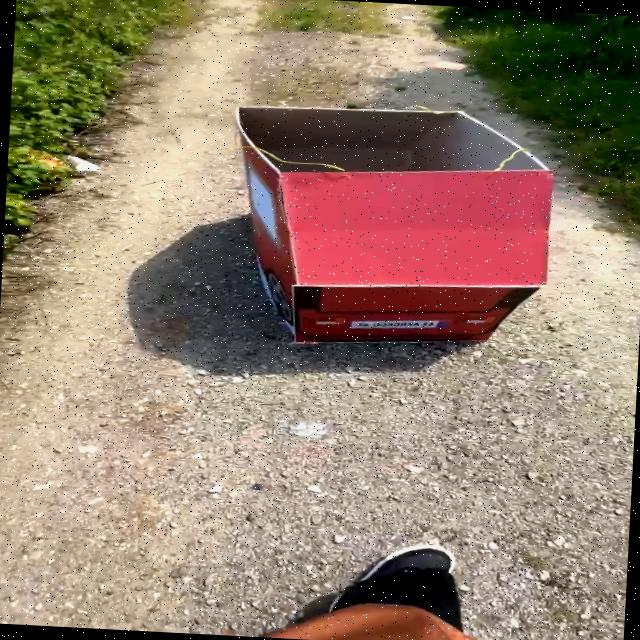red_car: (141, 65, 608, 396)
